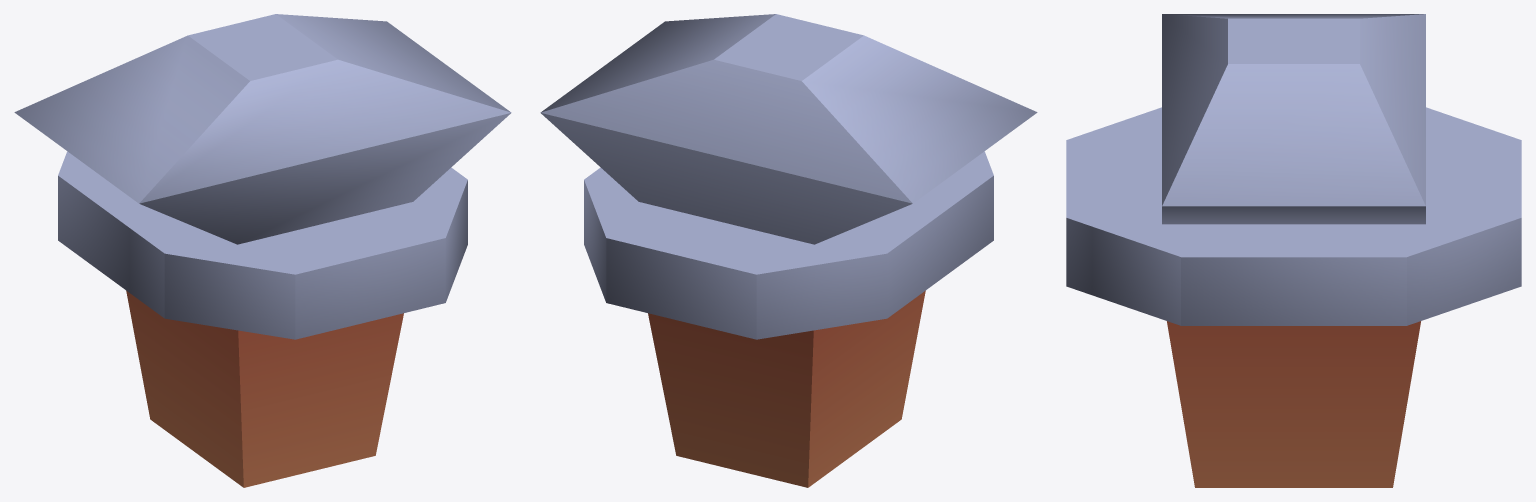
Rendered from spear.glb.
The picture shows the model from 3 angles, left to right: view 1: azimuth 30°, elevation 25°; view 2: azimuth 150°, elevation 25°; view 3: azimuth 270°, elevation 25°; orthographic projection. The views are drawn at different scales.
Parts seen in each view (by area): view 1: weapon-spear; view 2: weapon-spear; view 3: weapon-spear.
Part boxes in pixels (x1,y1,x2,y2): weapon-spear: (14,14,511,487); weapon-spear: (540,14,1037,487); weapon-spear: (1066,14,1521,487).
Size of the model in its own units: 1 by 1 by 1.
Materials: 1 (1 with a texture image).
